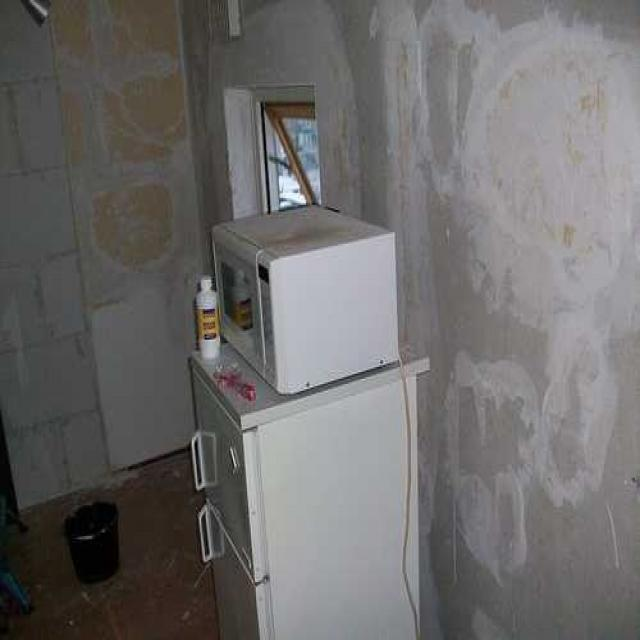refrigerator: (187, 348, 292, 640)
